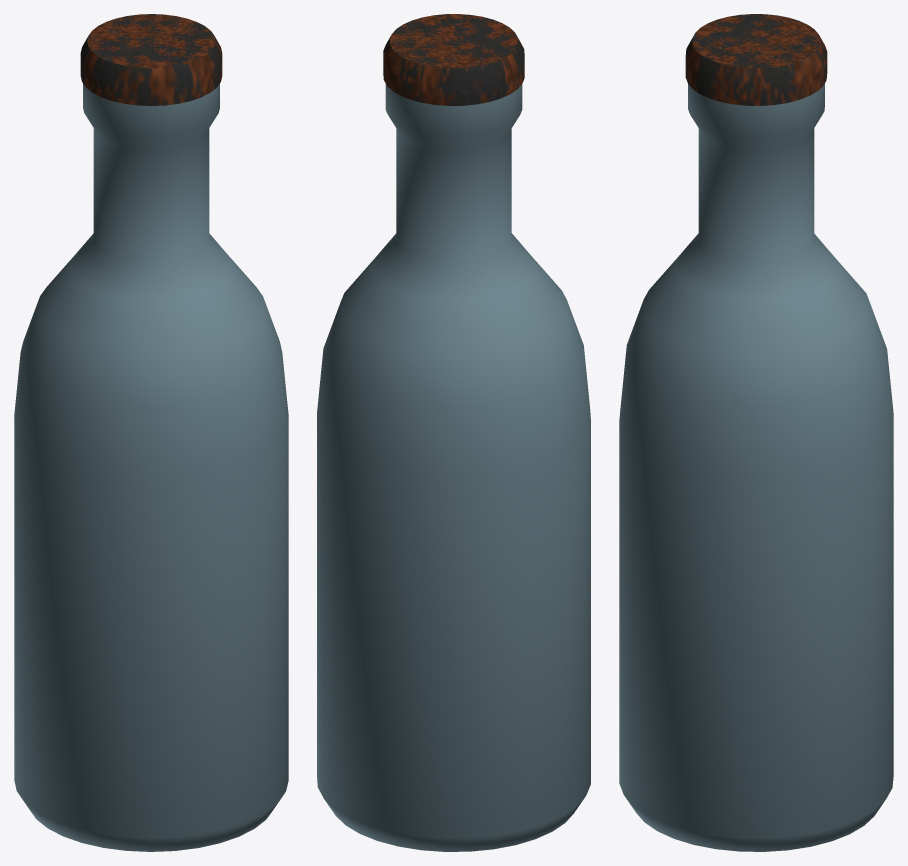
Rendered from SM_Bottle_8e70e84240.fbx.
3 renders of one model, left to right at view 1: azimuth 30°, elevation 25°; view 2: azimuth 150°, elevation 25°; view 3: azimuth 270°, elevation 25°, orthographic.
Visible parts, largest first — view 1: SM_Bottle_8e70e84240; view 2: SM_Bottle_8e70e84240; view 3: SM_Bottle_8e70e84240.
Part boxes in pixels (x1,y1,x2,y2): SM_Bottle_8e70e84240: (14,14,288,851); SM_Bottle_8e70e84240: (317,14,590,851); SM_Bottle_8e70e84240: (619,14,893,851).
Size of what is drawn, in the model's own units: 12.78 by 12.78 by 39.4.
Materials: 2 (1 with a texture image).
